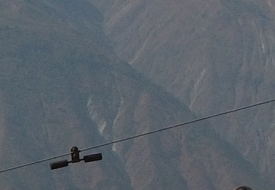damper: (48, 145, 104, 172)
